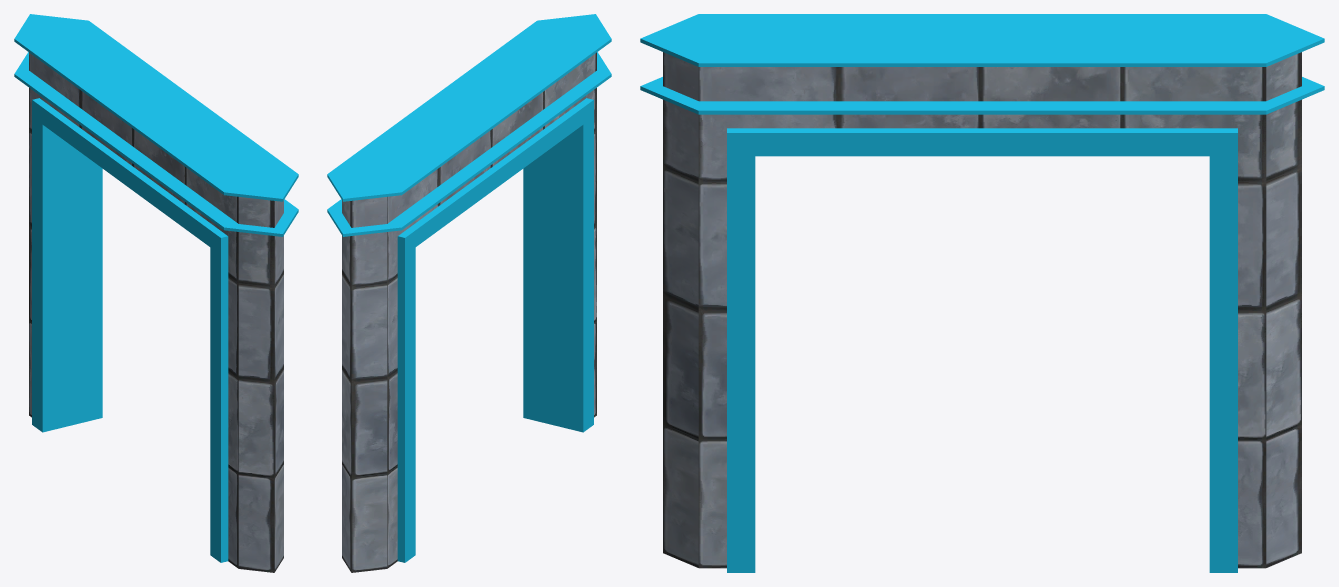
The model's file is Door1-Open.fbx.
The picture shows the model from 3 angles, left to right: view 1: azimuth 30°, elevation 25°; view 2: azimuth 150°, elevation 25°; view 3: azimuth 270°, elevation 25°; orthographic projection. The views are drawn at different scales.
Visible parts, largest first — view 1: wall_garageDoor_103, wall_skyscraperGlass%_104; view 2: wall_garageDoor_103, wall_skyscraperGlass%_104; view 3: wall_garageDoor_103, wall_skyscraperGlass%_104.
Part boxes in pixels (<box>): wall_garageDoor_103: <box>29,88,283,572</box>; wall_skyscraperGlass%_104: <box>14,14,298,236</box>; wall_garageDoor_103: <box>342,88,596,572</box>; wall_skyscraperGlass%_104: <box>327,14,611,236</box>; wall_garageDoor_103: <box>663,99,1301,572</box>; wall_skyscraperGlass%_104: <box>640,14,1324,114</box>.
Size of the model in its own units: 2.05 by 10 by 12.05.
2 materials, 1 textured.
